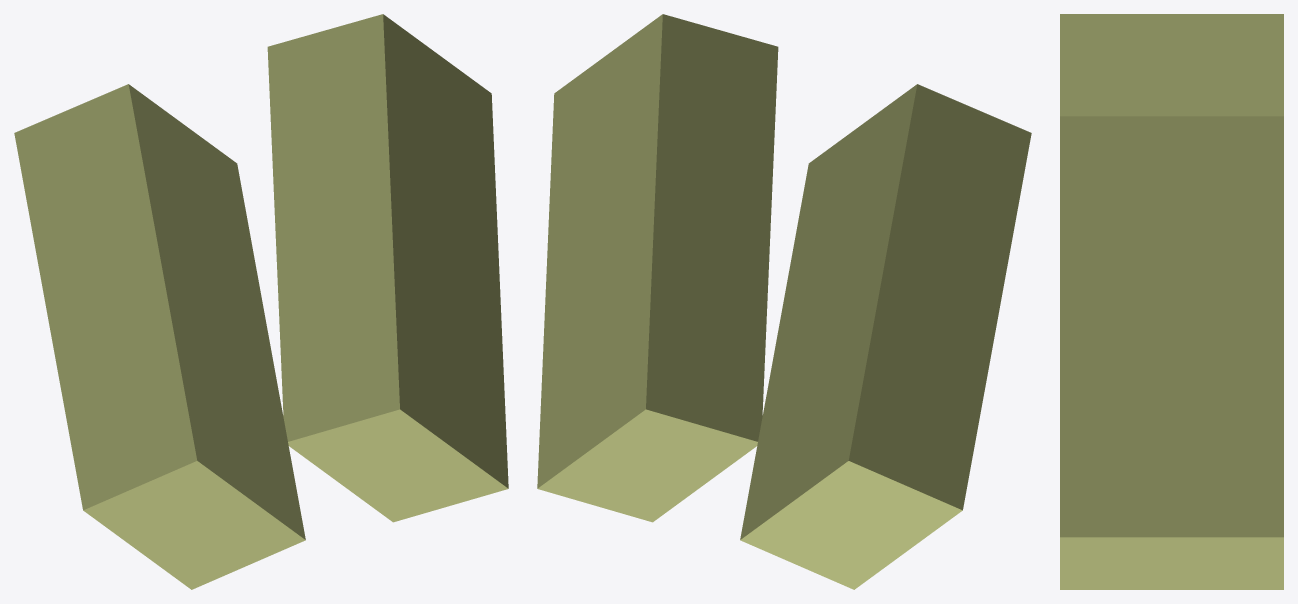
The picture shows the model from 3 angles, left to right: view 1: azimuth 30°, elevation 25°; view 2: azimuth 150°, elevation 25°; view 3: azimuth 270°, elevation 25°; orthographic projection. The views are drawn at different scales.
Parts seen in each view (by area): view 1: 0_0_1_3_3_2_2_2_3; view 2: 0_0_1_3_3_2_2_2_3; view 3: 0_0_1_3_3_2_2_2_3.
Part boxes in pixels (x1=…): 0_0_1_3_3_2_2_2_3: x1=14, y1=14, x2=508, y2=589; 0_0_1_3_3_2_2_2_3: x1=537, y1=14, x2=1031, y2=589; 0_0_1_3_3_2_2_2_3: x1=1060, y1=14, x2=1283, y2=589.
Bounding box in the file's own units: 18.46 × 19.35 × 9.
